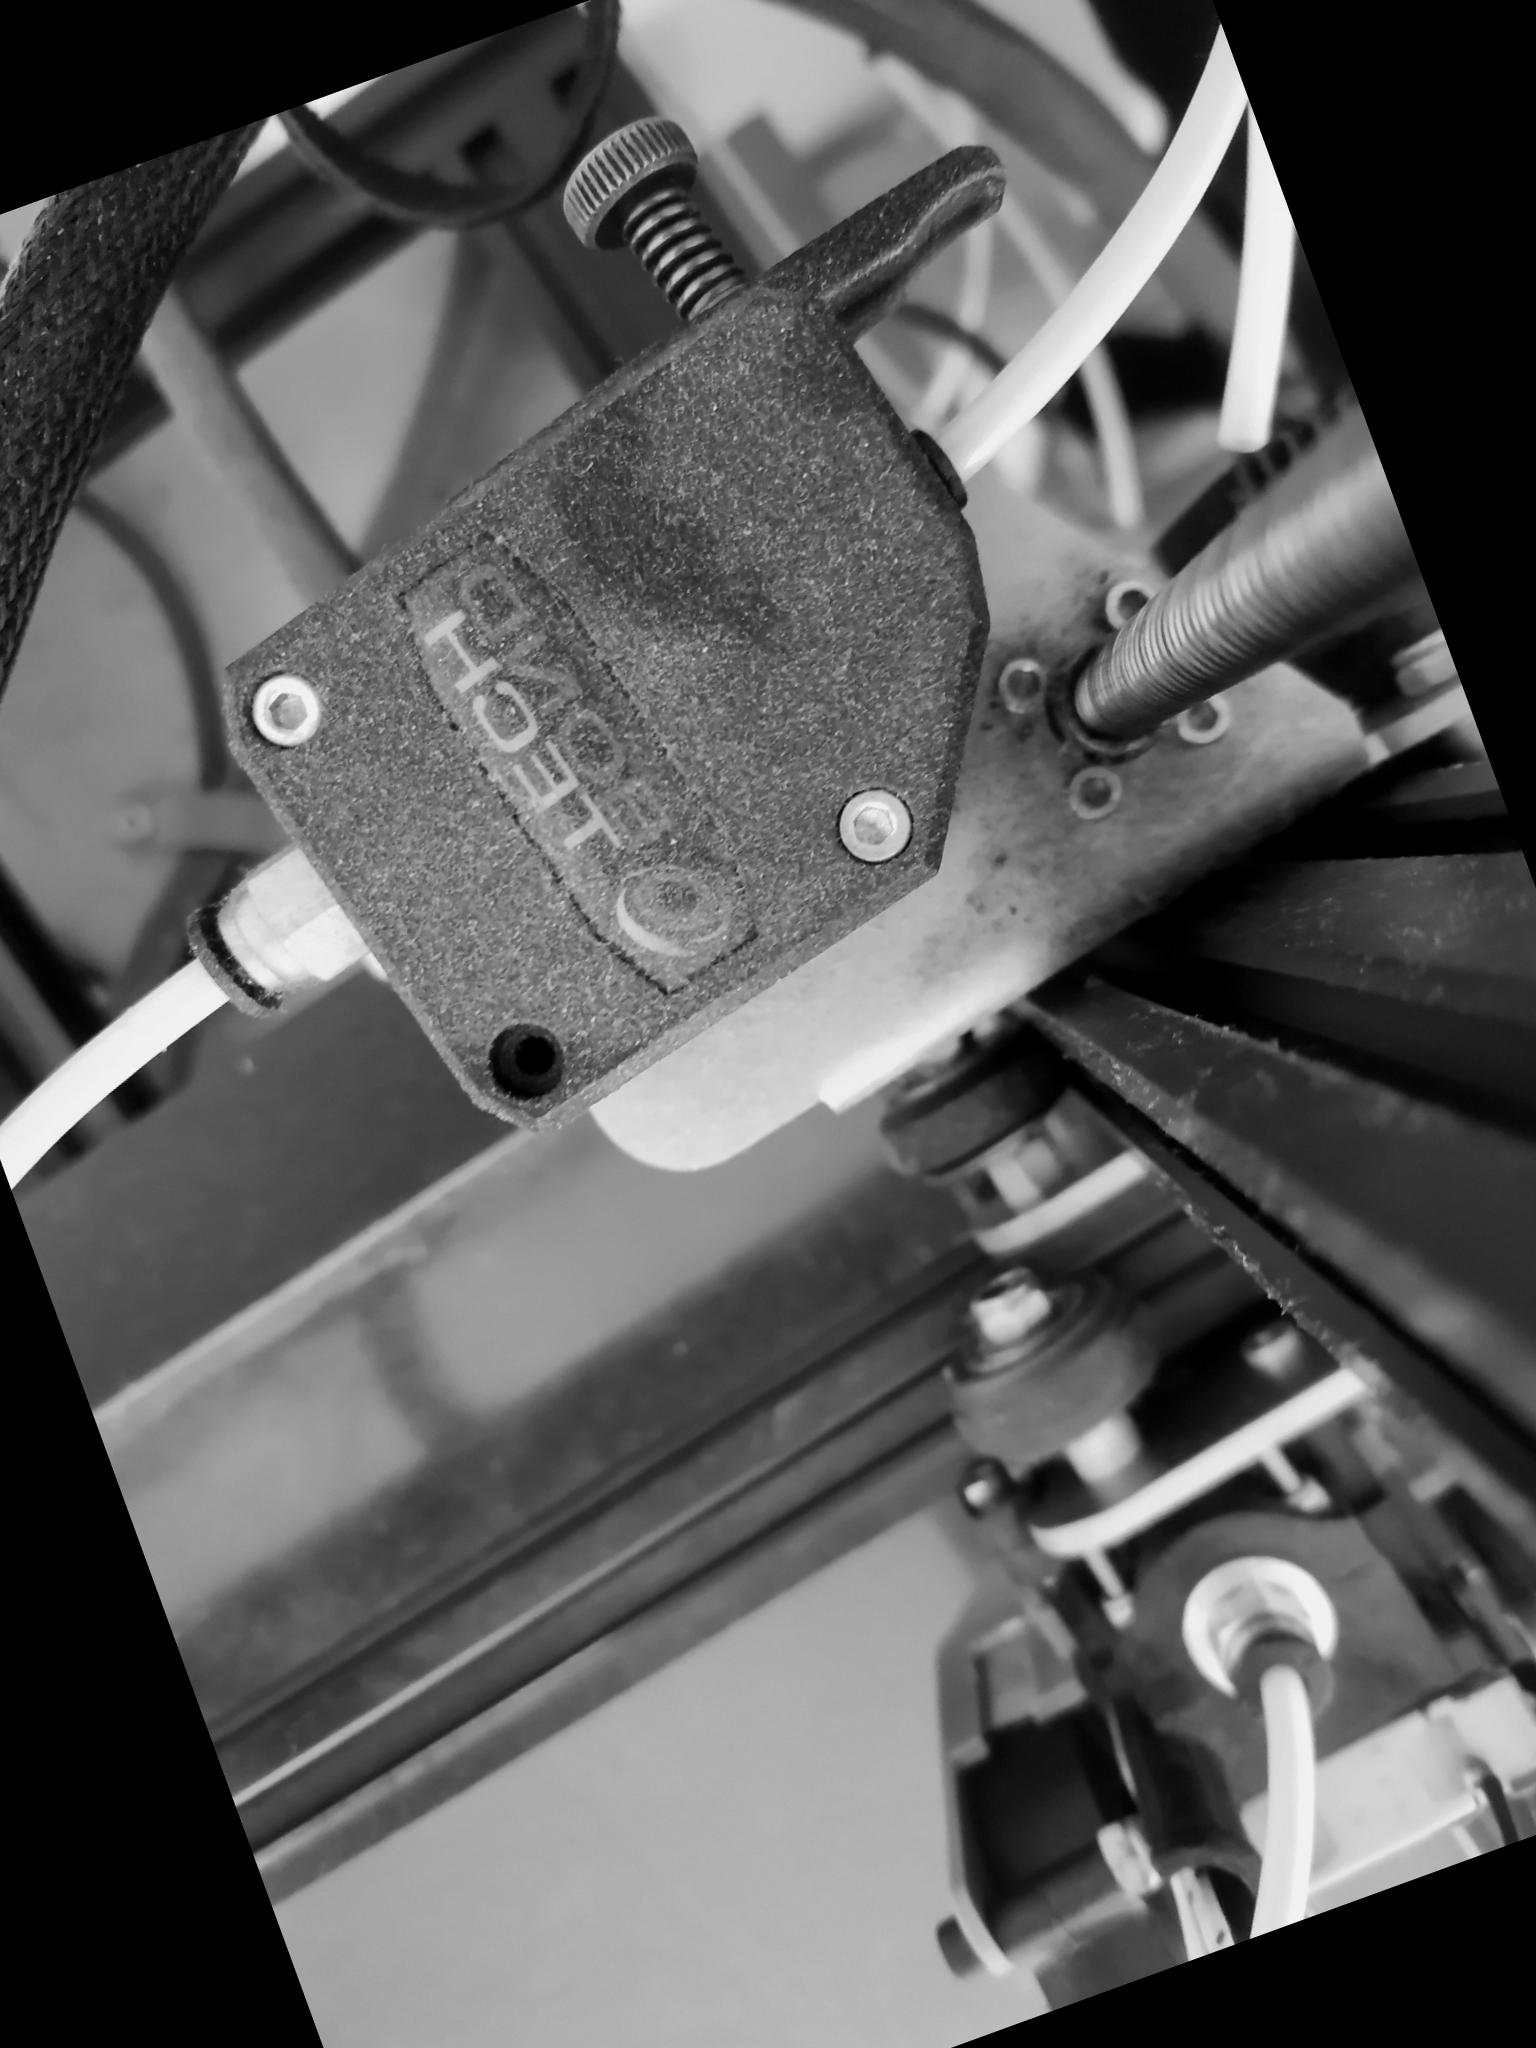allen: (226, 651, 338, 761), (819, 775, 930, 882), (974, 641, 1070, 736), (1052, 746, 1143, 839)
